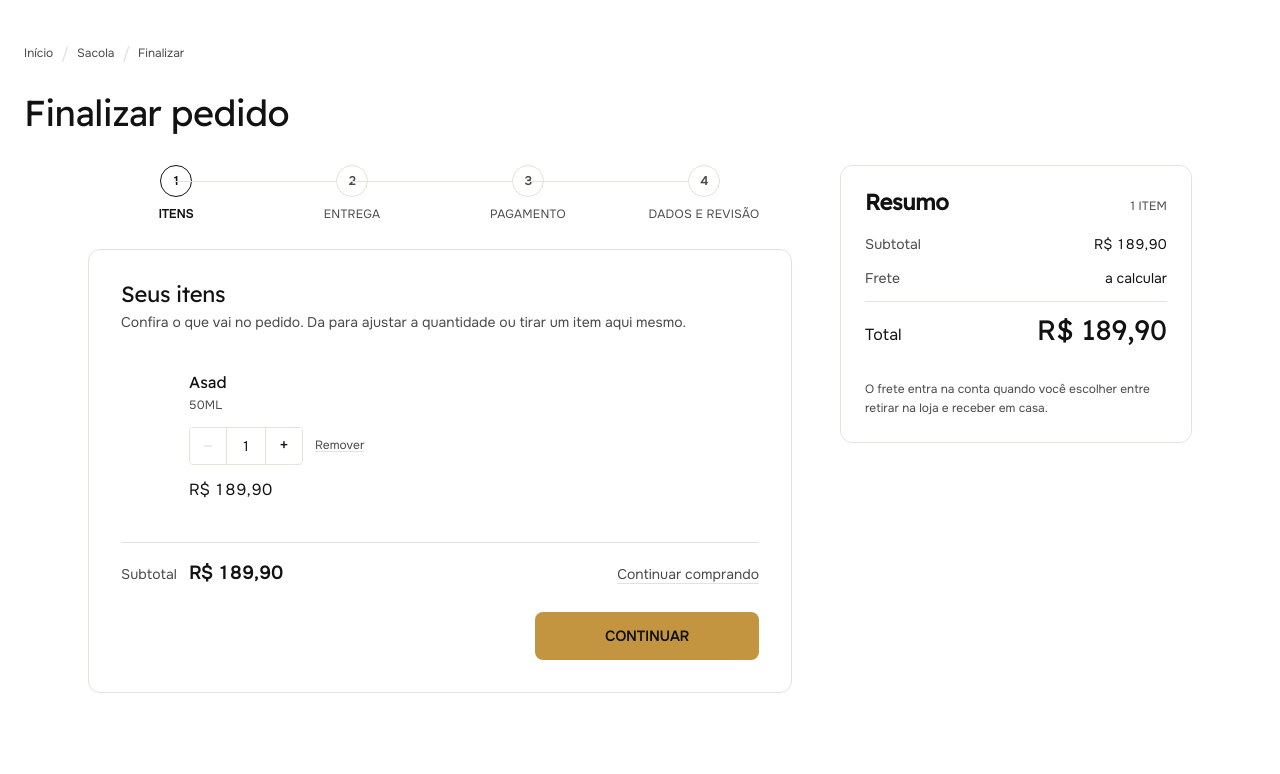
escolher retirada some com os campos de endereço e zera a taxa
Expected: the heading "Seus itens" is shown, [121,280,225,308]
Click the button named "Continuar" at (647, 636), box [535,612,759,660]
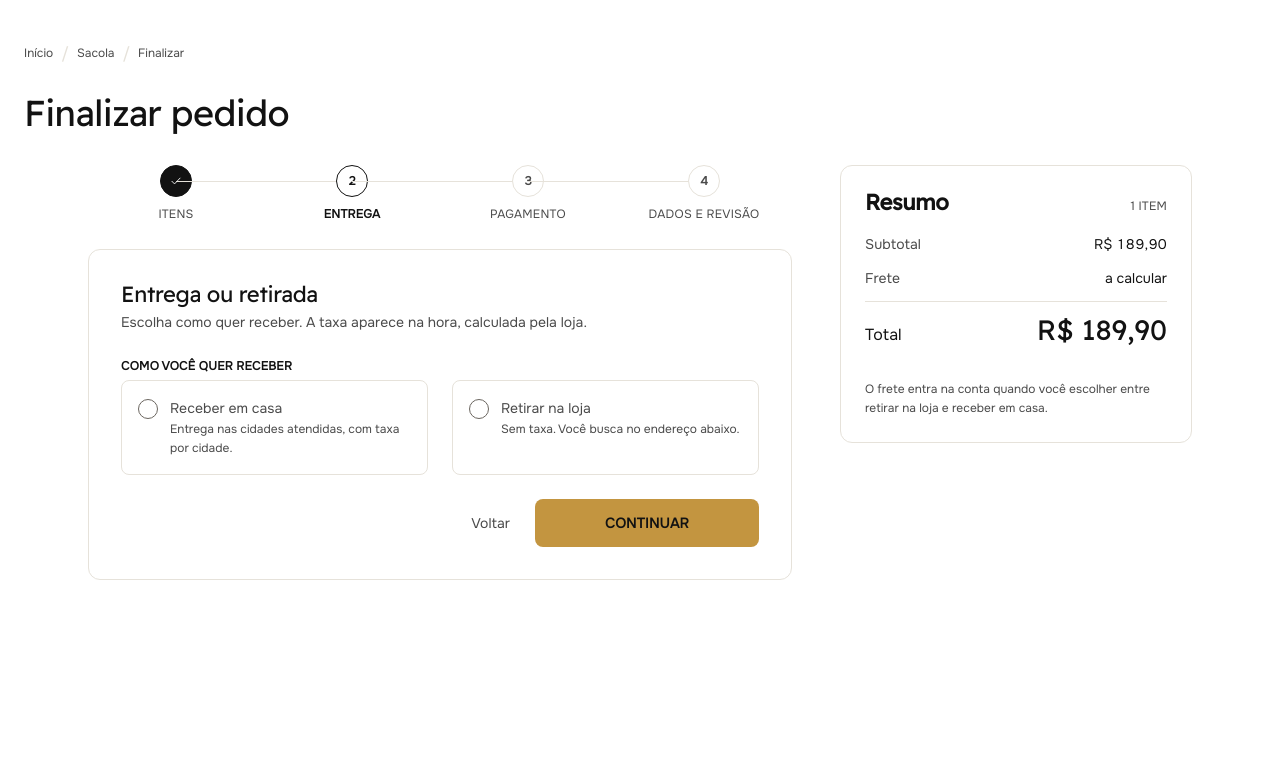
Click the radio button labelled "Receber em casa" at (274, 428), box [121,380,428,475]
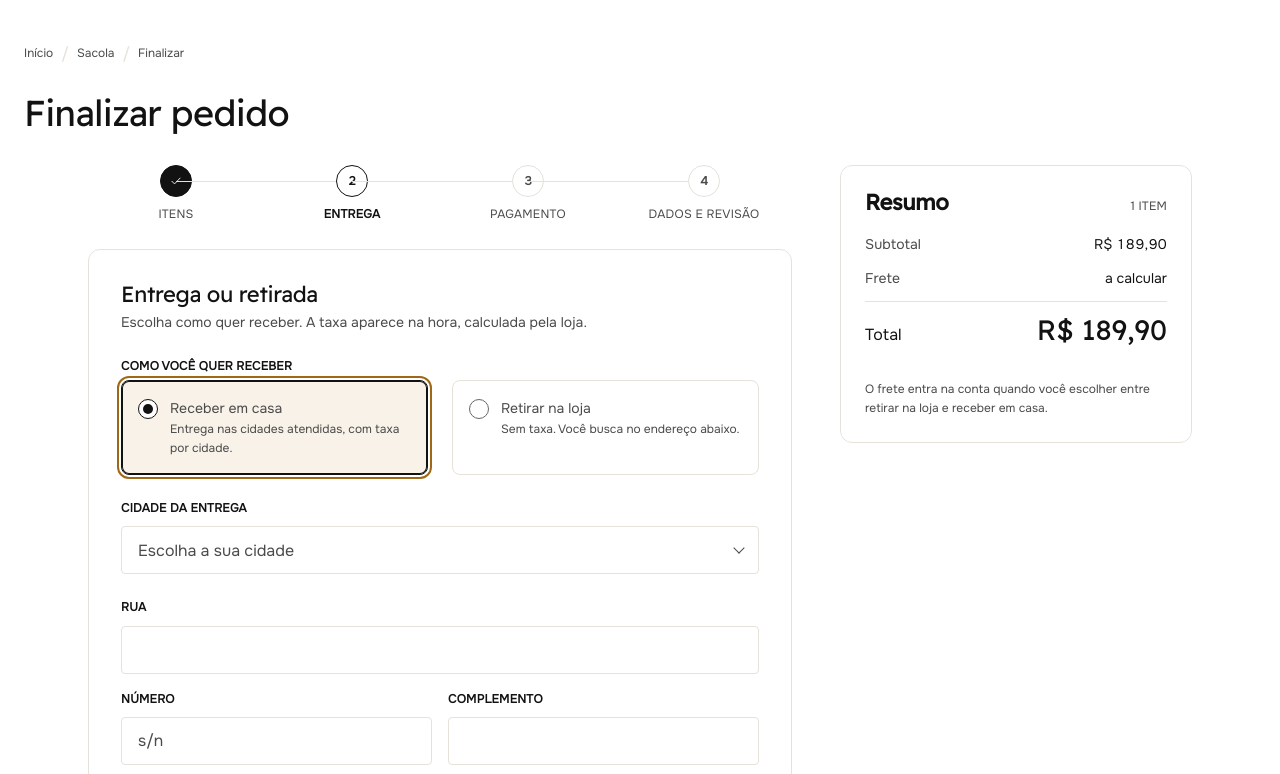
Result: the field labelled "Rua" is shown at [121,626,759,674]
Click the radio button labelled "Retirar na loja Sem taxa. Você busca no endereço abaixo." at (606, 428), box [452,380,759,475]
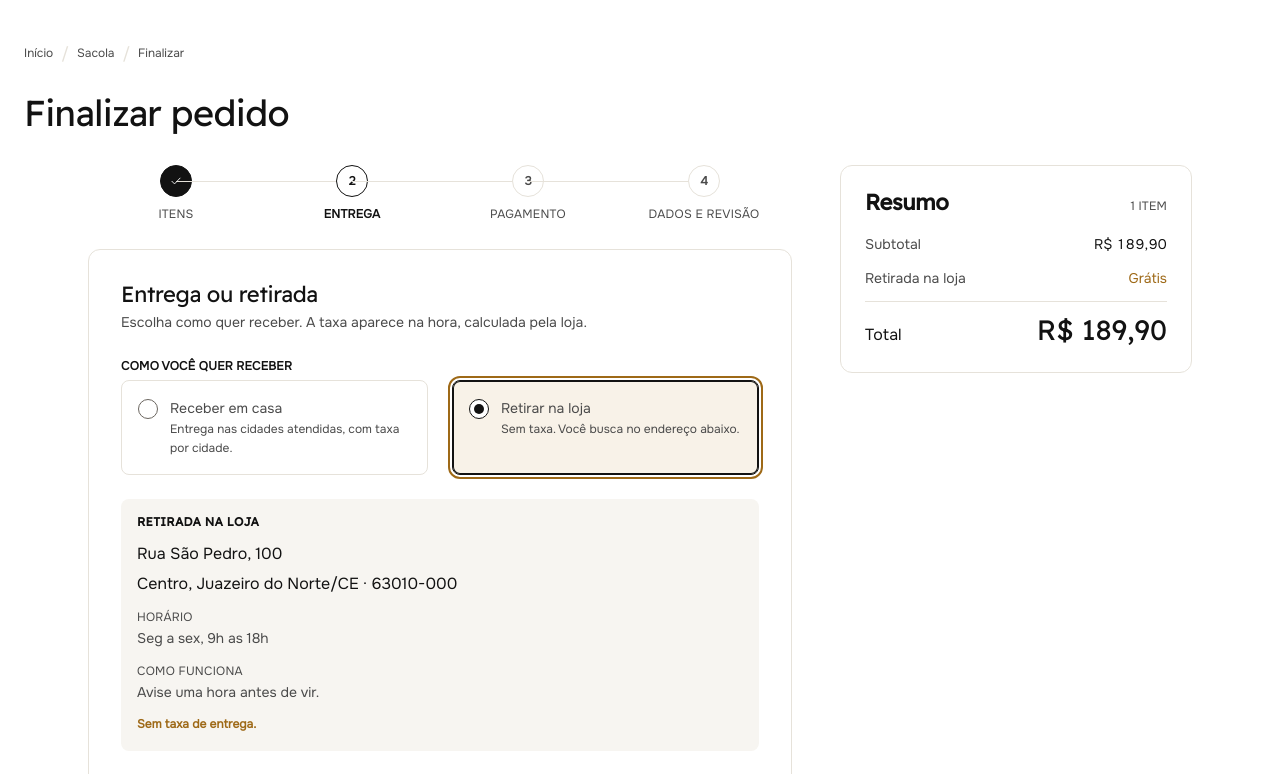
Result: the label labelled "Cidade da entrega" is gone
Result: the text "Rua São Pedro, 100" is shown at [137,543,282,564]
